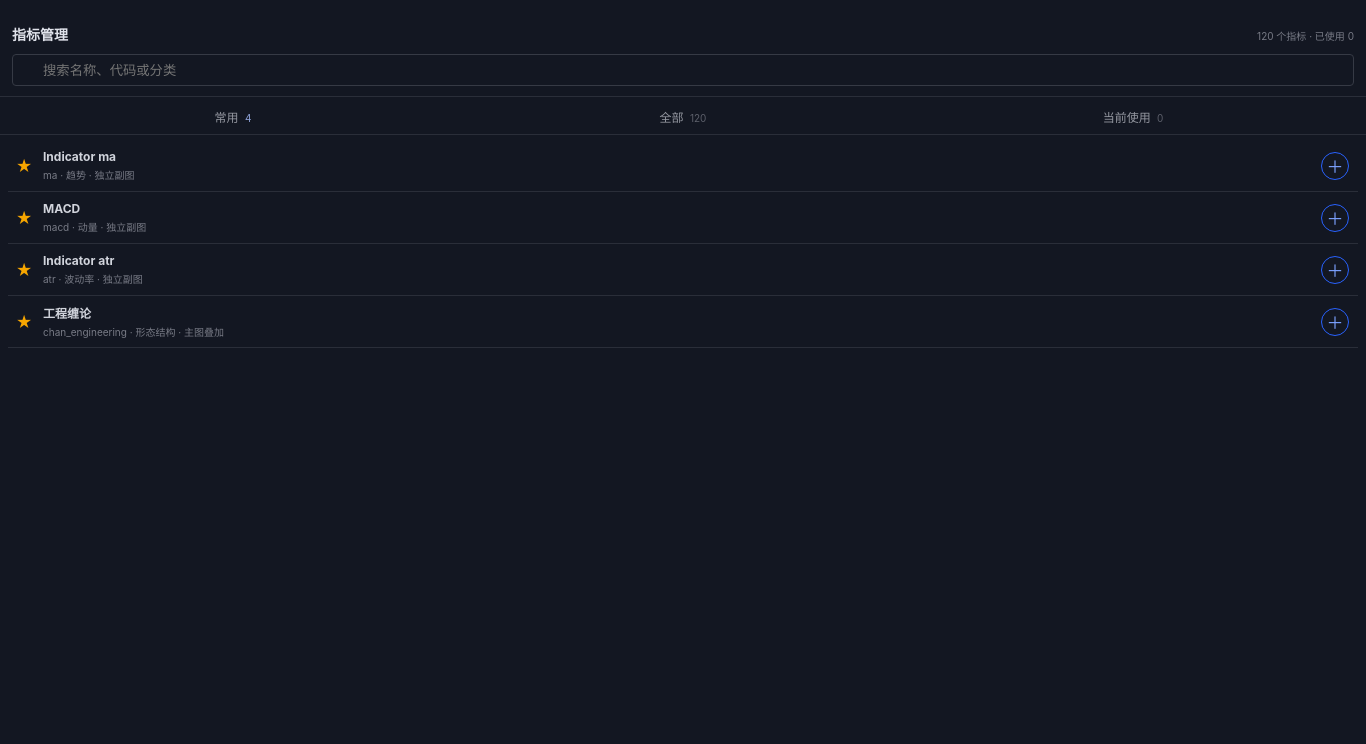
Test: IndicatorManagerPanel › keeps a catalog of more than one hundred indicators navigable through common, all, category and search views
expect the navigation bar named "指标范围" shows "全部 120": met, box [0,97,1365,135]
expect the number of elements with class "indicator-catalog-row" is 4: met, box [8,140,1358,192]; [8,192,1358,244]; [8,244,1358,296]; [8,296,1358,348]
Step 1. Click the button "全部 120" → (683, 116), box [458,97,908,135]
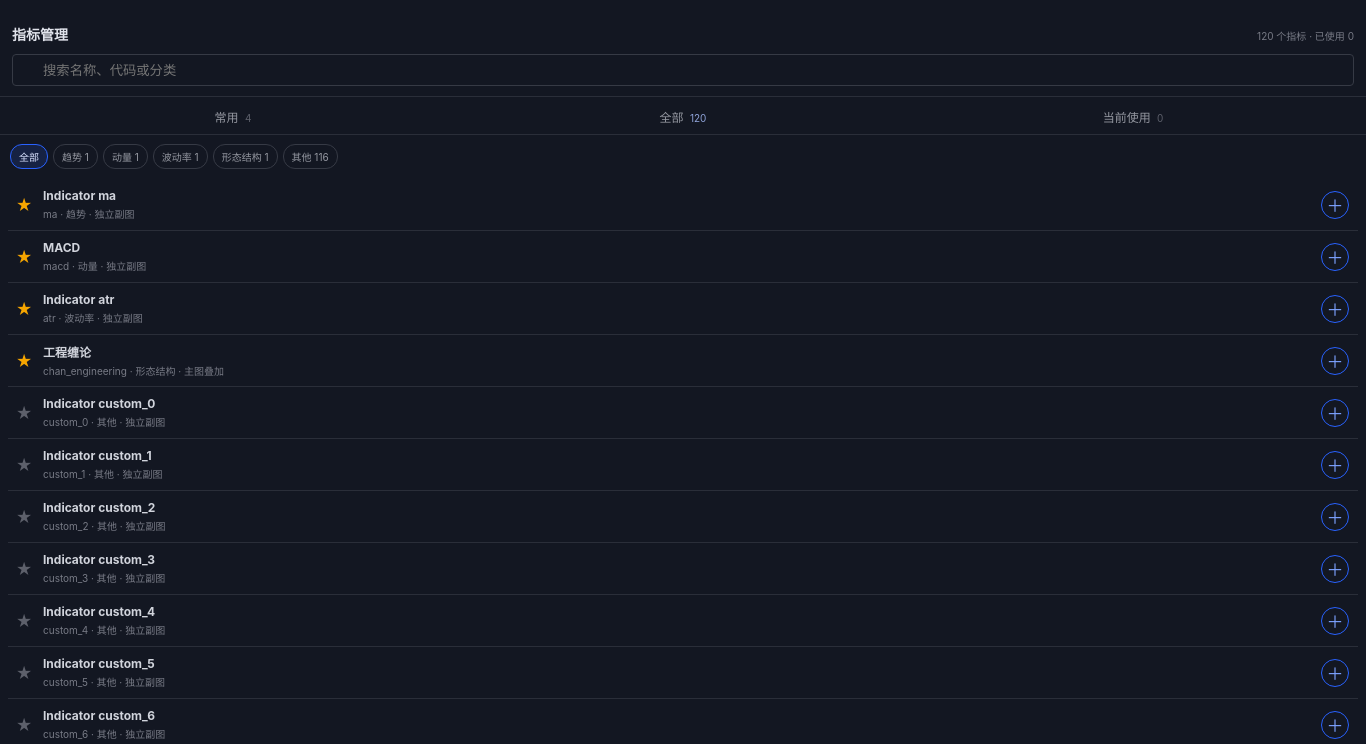
Step 2. Type "custom_87" into the search field named "搜索指标" → (683, 70), box [12,54,1354,86]
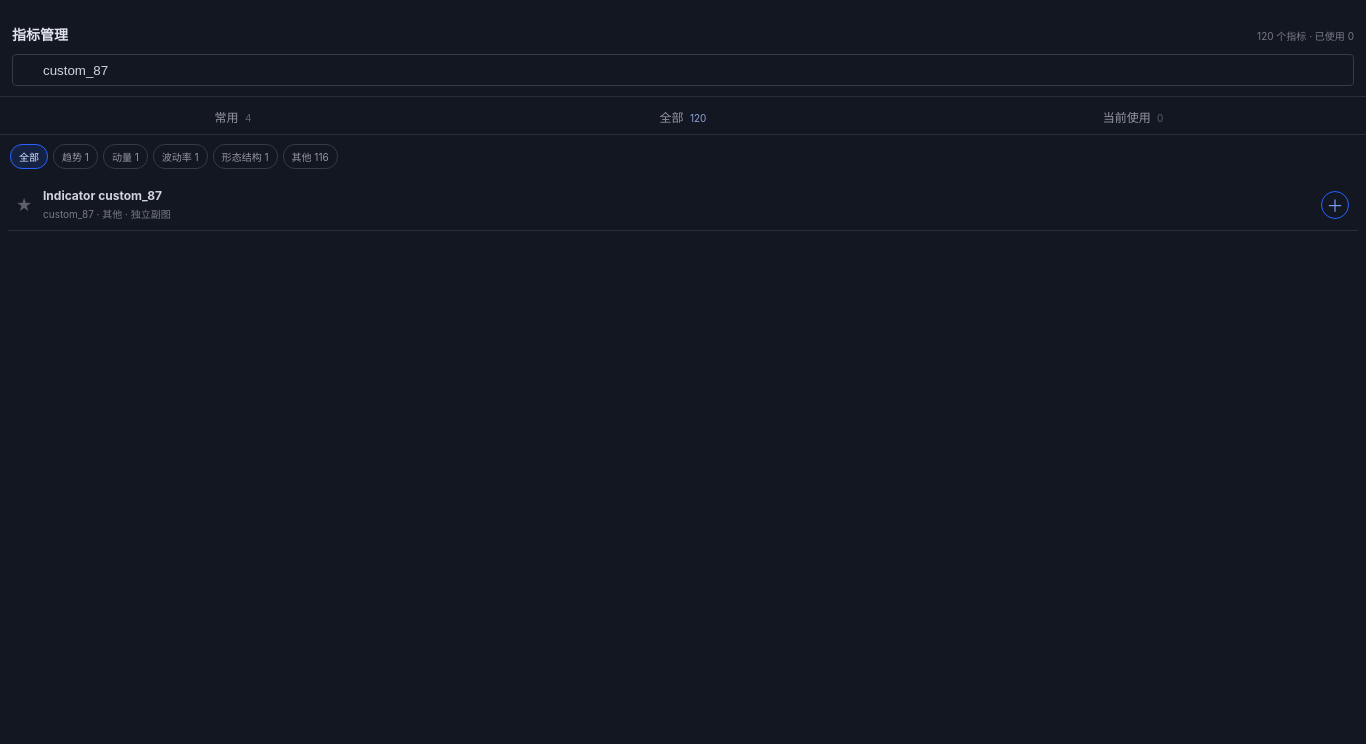
expect the number of elements with class "indicator-catalog-row" is 1: met, box [8,179,1358,231]
expect the element with class "indicator-catalog-row" shows "custom_87": met, box [43,188,162,203]
Step 3. Clear the search field named "搜索指标" → (683, 70), box [12,54,1354,86]
(page scrolled)
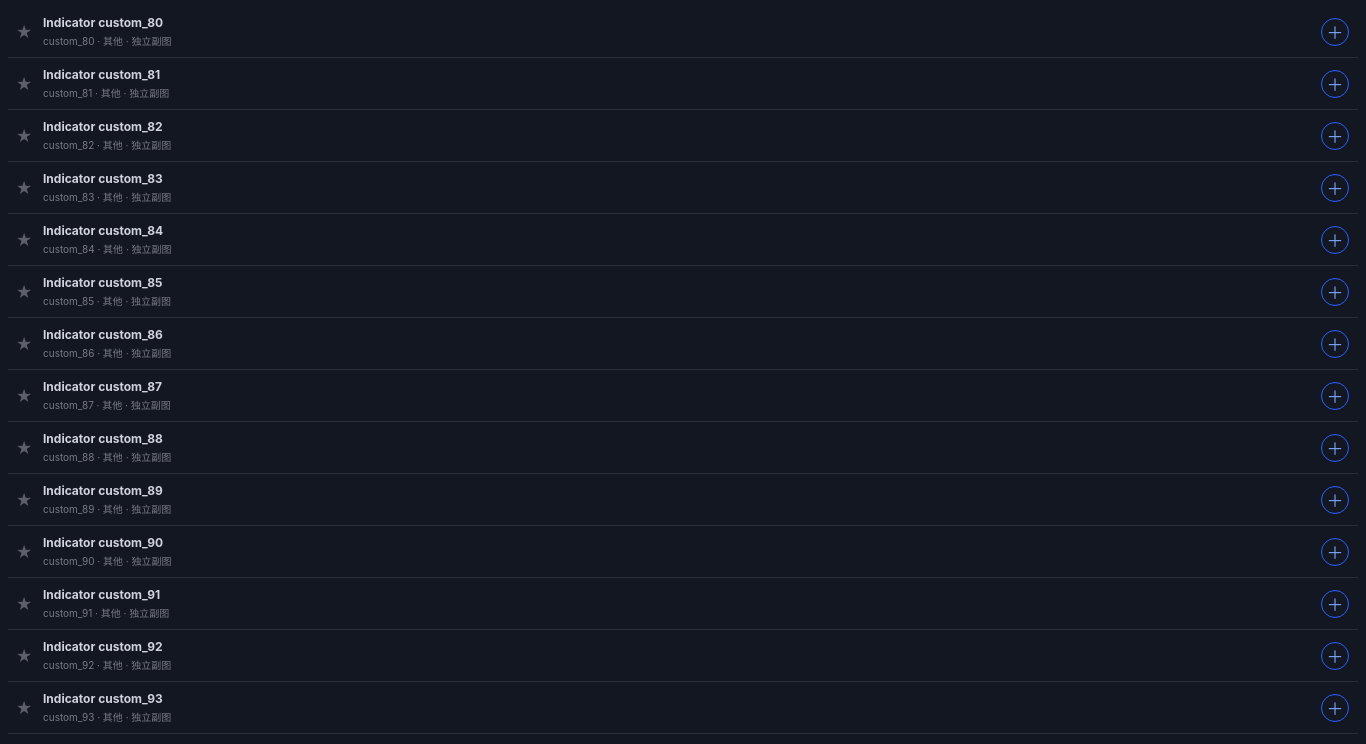
Step 4. Click the button named "收藏 Indicator custom_87" → (24, 396), box [11,382,37,410]
(page scrolled)
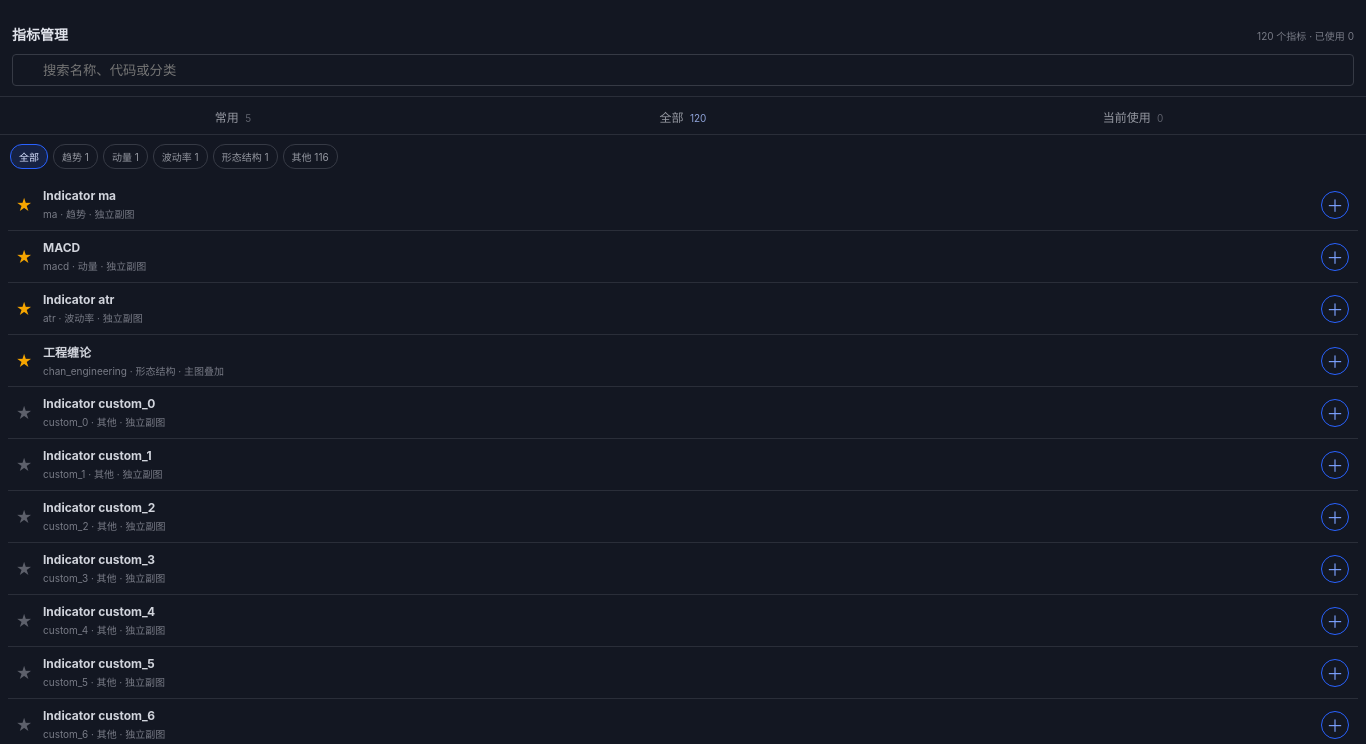
Step 5. Click the button "常用 5" → (233, 116), box [8,97,458,135]
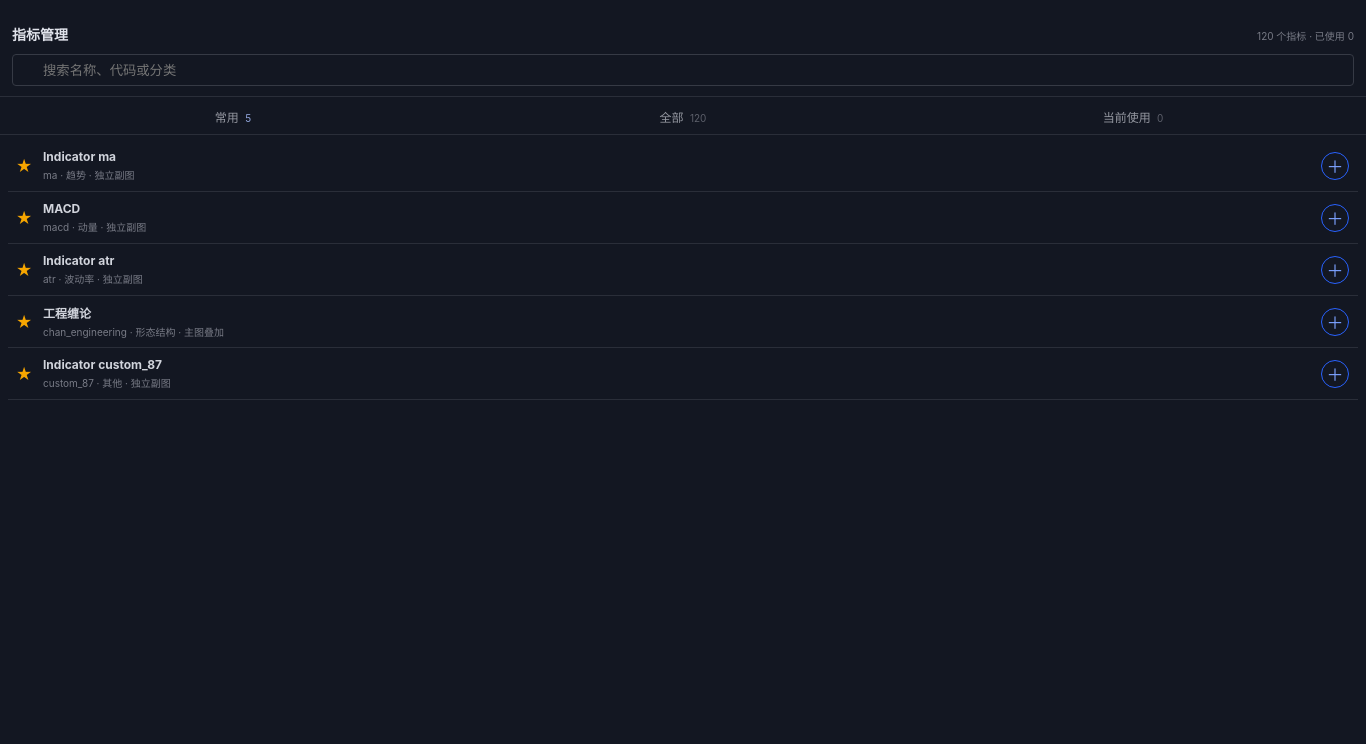
expect the text "Indicator custom_87" is shown: met, box [43,357,162,372]
